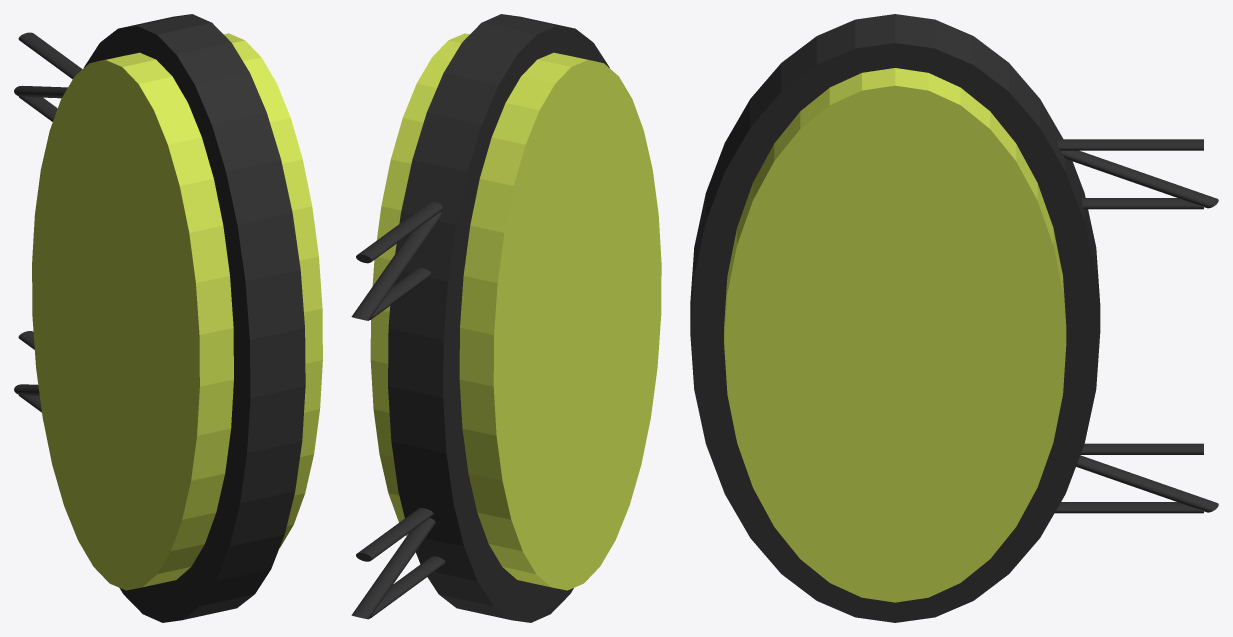
Rendered from sign_002.glb.
3 views of the same model, side by side, from view 1: azimuth 30°, elevation 25°; view 2: azimuth 150°, elevation 25°; view 3: azimuth 270°, elevation 25° (orthographic).
Visible parts, largest first — view 1: sign_main, sign_border, support_top, support_bottom; view 2: sign_main, sign_border, support_top, support_bottom; view 3: sign_main, sign_border, support_top, support_bottom.
Part boxes in pixels (box(x1,y1,x2,y2)): sign_main: box(32, 33, 322, 590); sign_border: box(83, 14, 305, 622); support_top: box(14, 32, 82, 121); support_bottom: box(14, 331, 41, 412); sign_main: box(370, 33, 661, 590); sign_border: box(388, 14, 609, 622); support_top: box(351, 201, 442, 320); support_bottom: box(351, 508, 445, 619); sign_main: box(724, 68, 1066, 602); sign_border: box(690, 14, 1100, 622); support_top: box(1057, 139, 1218, 209); support_bottom: box(1055, 443, 1218, 513).
Size of the model in its own units: 2.1 by 8.56 by 6.96.
